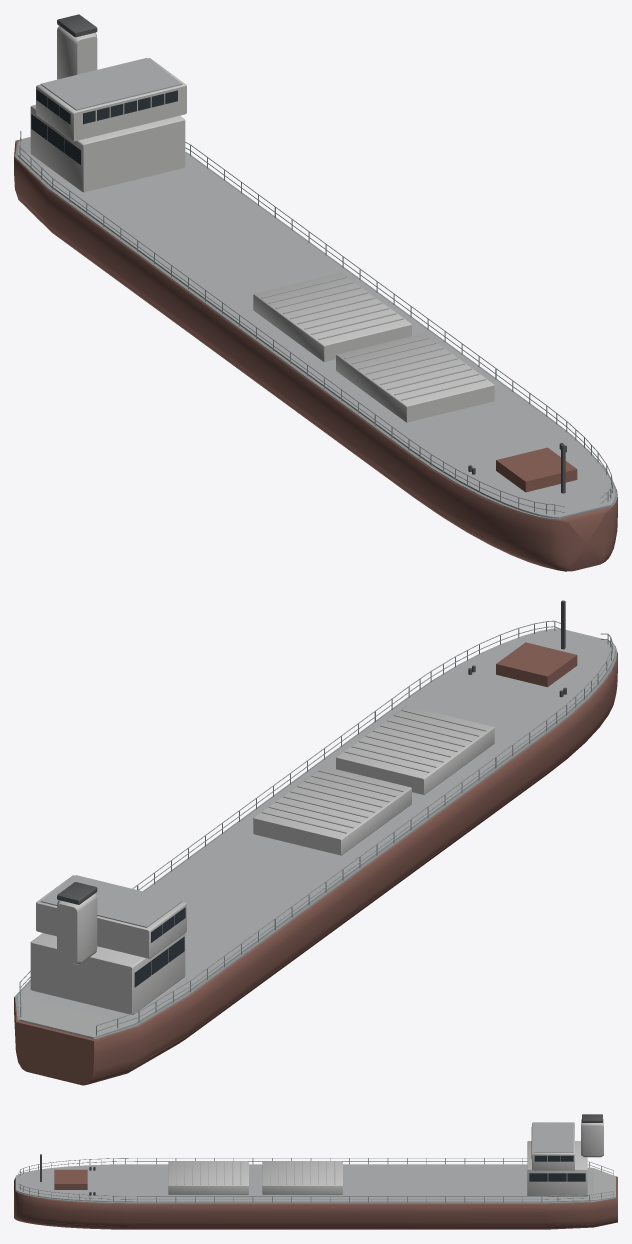
File: vessel-cargo.glb
3 renders of one model, top to bottom at view 1: azimuth 30°, elevation 25°; view 2: azimuth 150°, elevation 25°; view 3: azimuth 270°, elevation 25°, orthographic. The views are drawn at different scales.
Visible parts, largest first — view 1: vessel-cargo; view 2: vessel-cargo; view 3: vessel-cargo.
Boxes of the visible parts, x1,y1,x2,y2 form: vessel-cargo: (14, 14, 617, 571); vessel-cargo: (14, 600, 617, 1085); vessel-cargo: (14, 1114, 617, 1229).
Size of the model in its own units: 14 by 16 by 90.
